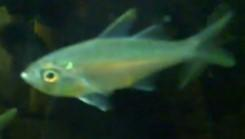Glass Perchlet: (17, 6, 236, 113)
